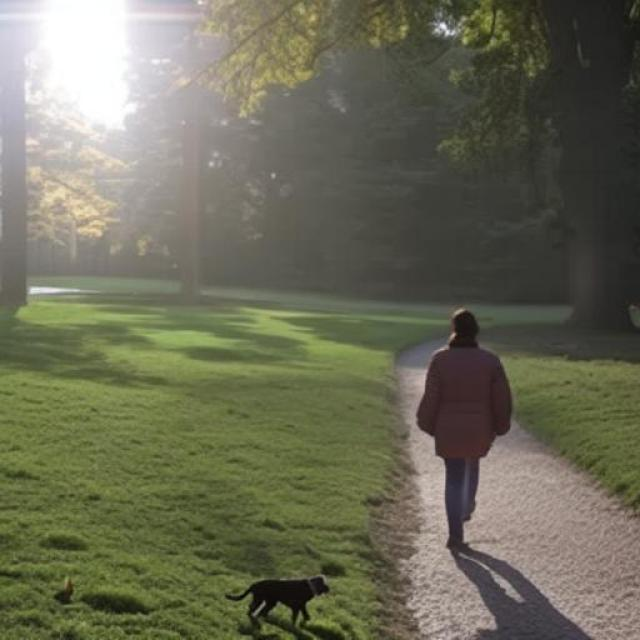Unleashed_Dog: (224, 459, 478, 626)
